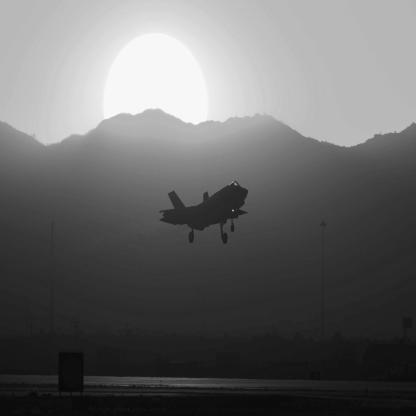F35: (160, 181, 250, 245)
